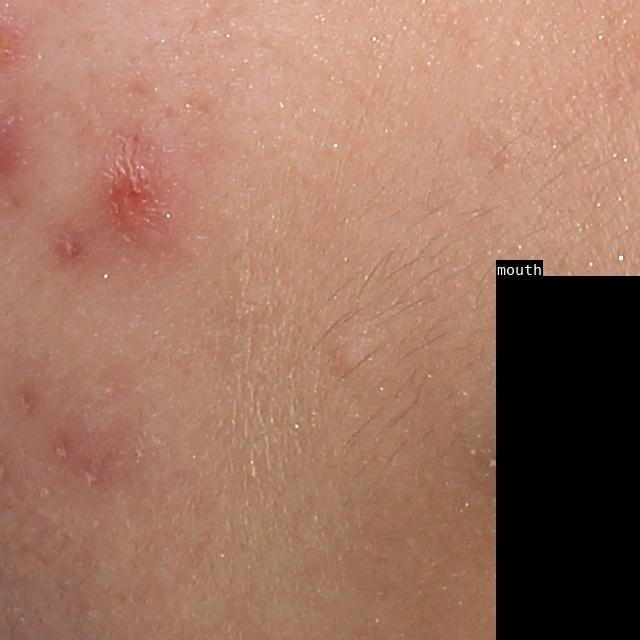comedo: (321, 336, 369, 380)
papule: (105, 156, 161, 230)
